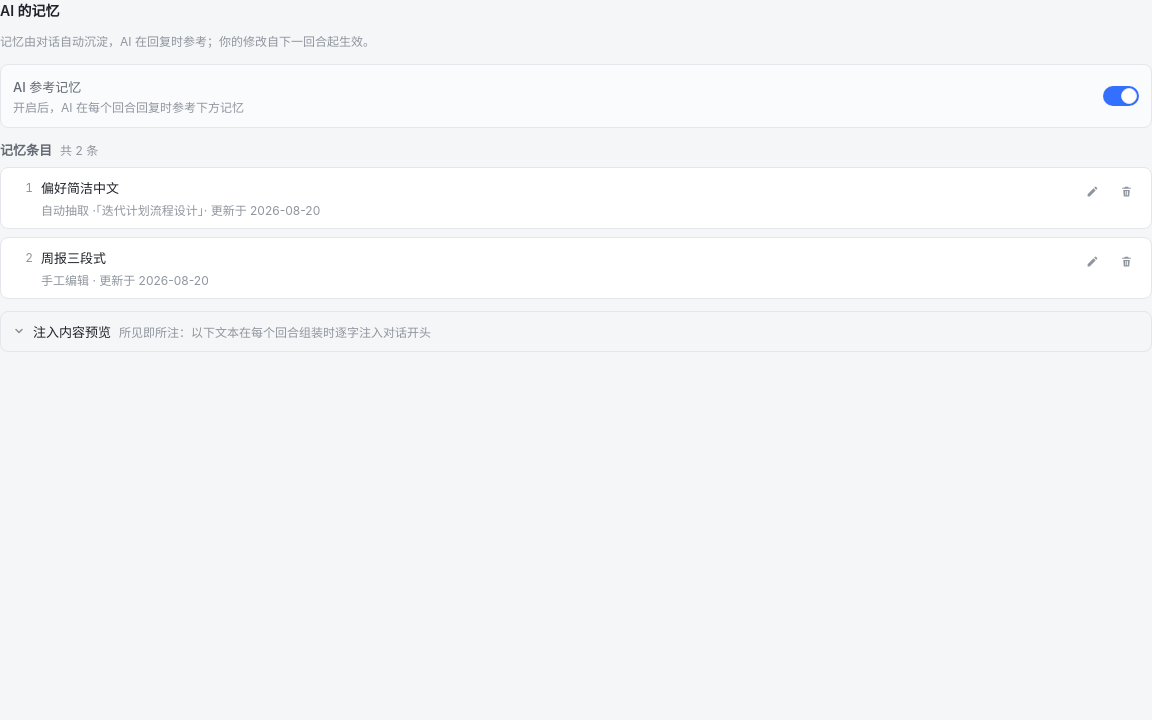
it: 删除确认（REQ-043 验收 2 vitest 面 + M19~M21 逐字） › 删除 → ConfirmModal 文案逐字 → DELETE → toast M31 + 重取
This screenshot has width=1152, height=720.
Click the button with class "mi-icon-del" in the row of "偏好简洁中文" at (1126, 191), box [1113,178,1139,204]
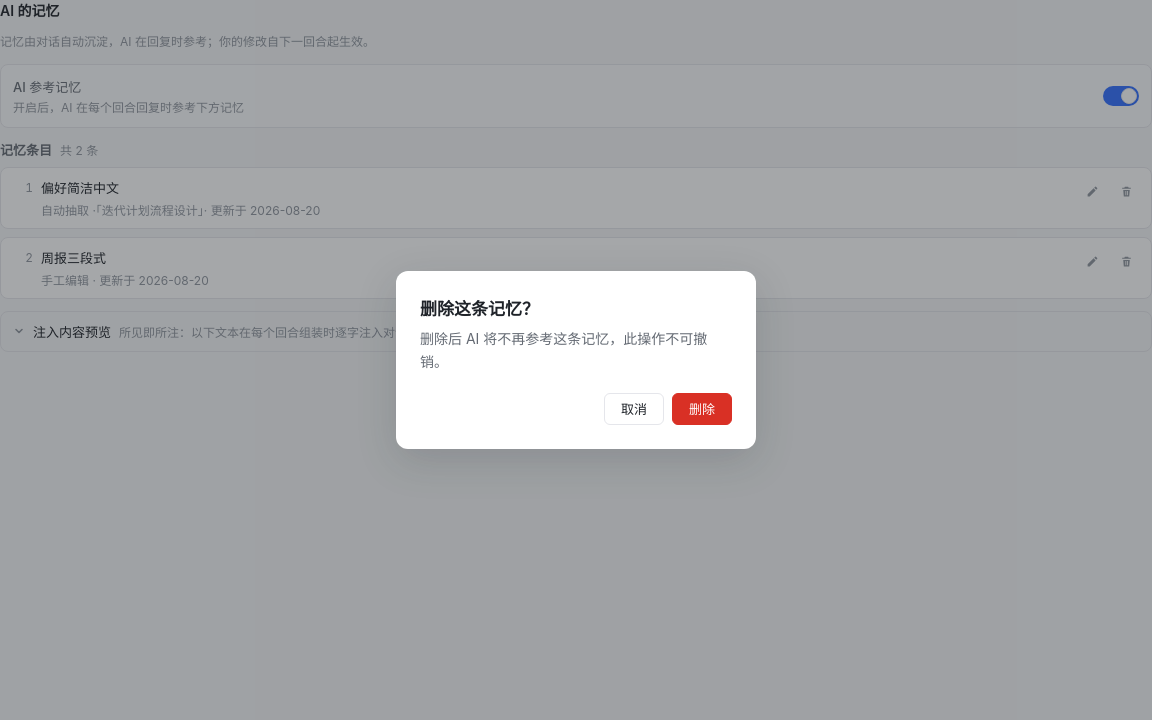
expect the heading "删除这条记忆？" is shown: met, box [420,299,539,319]
expect the text "删除后 AI 将不再参考这条记忆，此操作不可撤销。" is shown: met, box [420,328,732,373]
